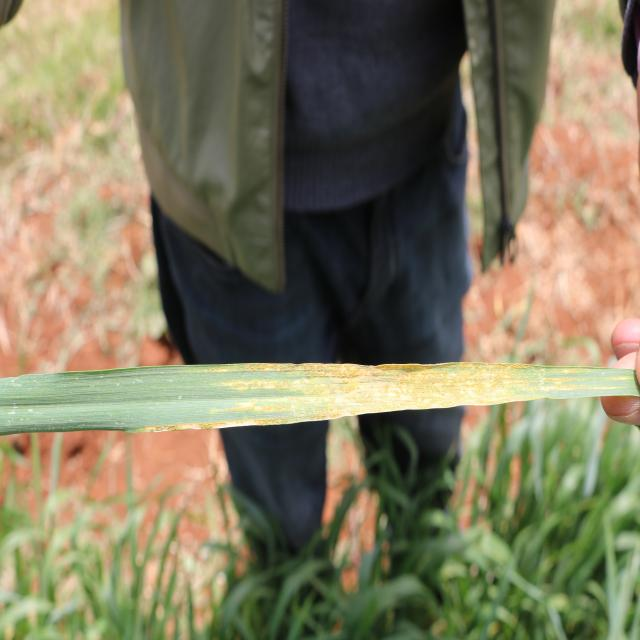Stripe Rust: (200, 364, 506, 406)
